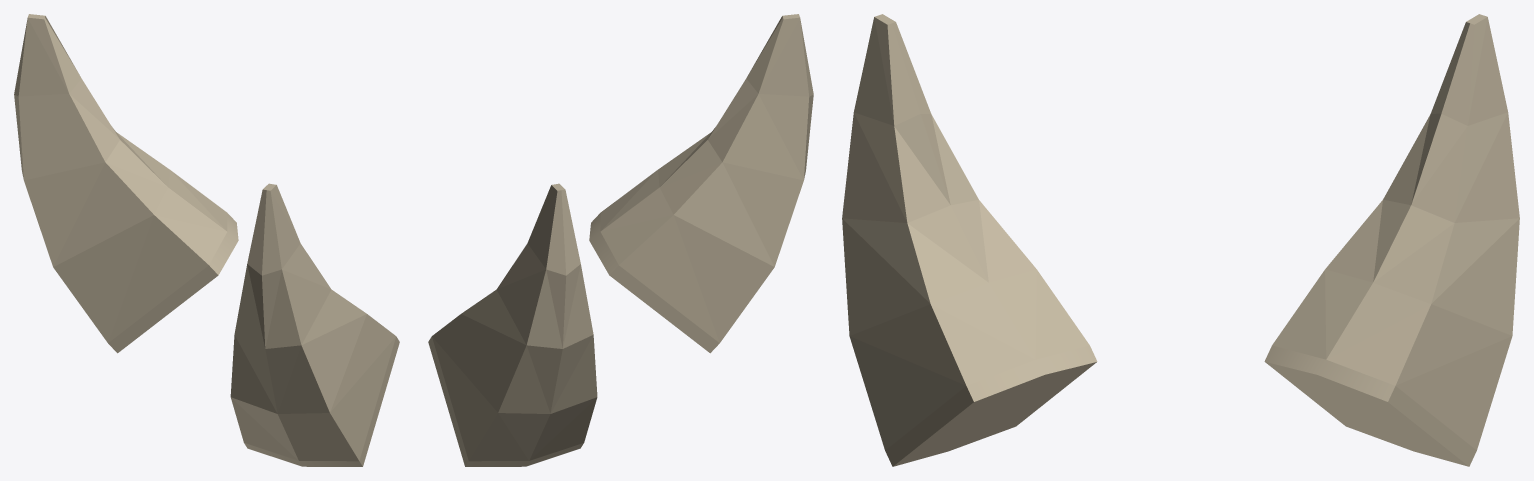
The model's file is РожкиФИНАЛ.FBX.
3 renders of one model, left to right at view 1: azimuth 30°, elevation 25°; view 2: azimuth 150°, elevation 25°; view 3: azimuth 270°, elevation 25°, orthographic. The views are drawn at different scales.
Parts seen in each view (by area): view 1: Sphere005; view 2: Sphere005; view 3: Sphere005.
Boxes of the visible parts, <box> form: Sphere005: <box>14,14,399,466</box>; Sphere005: <box>428,14,813,466</box>; Sphere005: <box>842,14,1519,466</box>.
Size of the model in its own units: 25.78 by 40.64 by 62.94.
